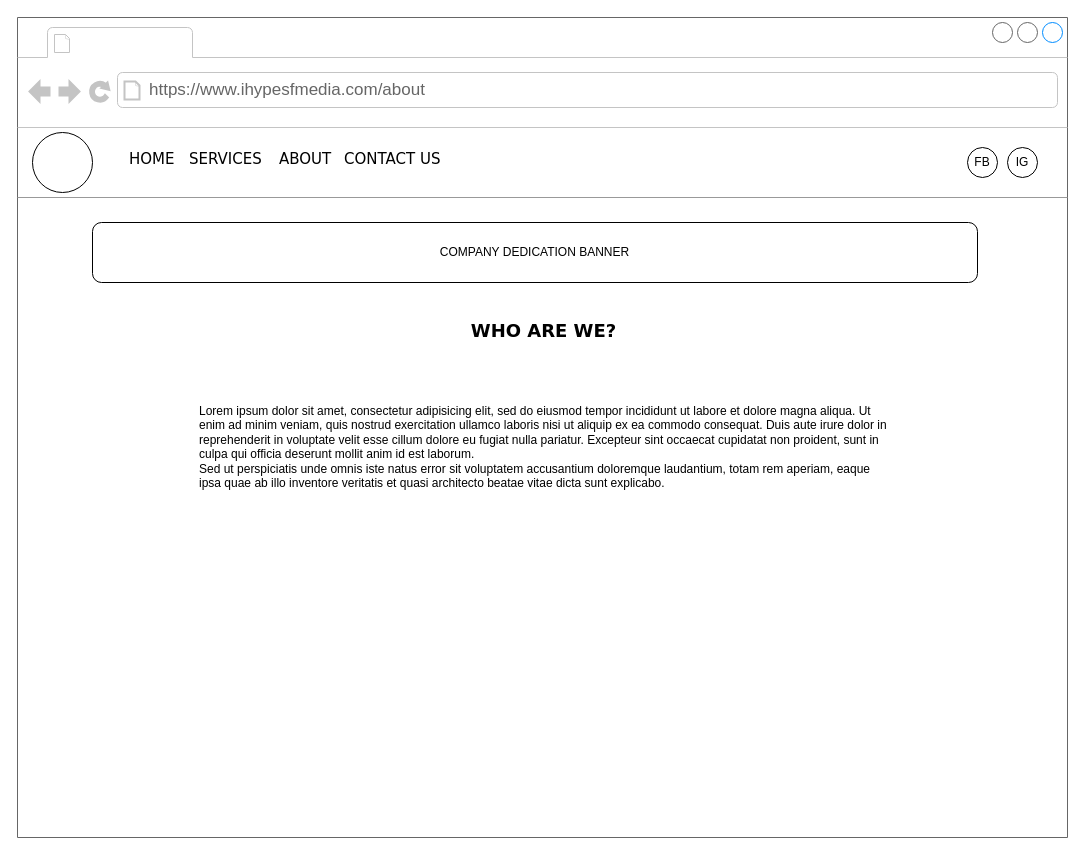
This 1085x855 diagram has some shape labels left out. The centre of each missing label's shape, as x and y in pixels:
ABOUT PAGE: [132,42]
LOGO: [62,162]
